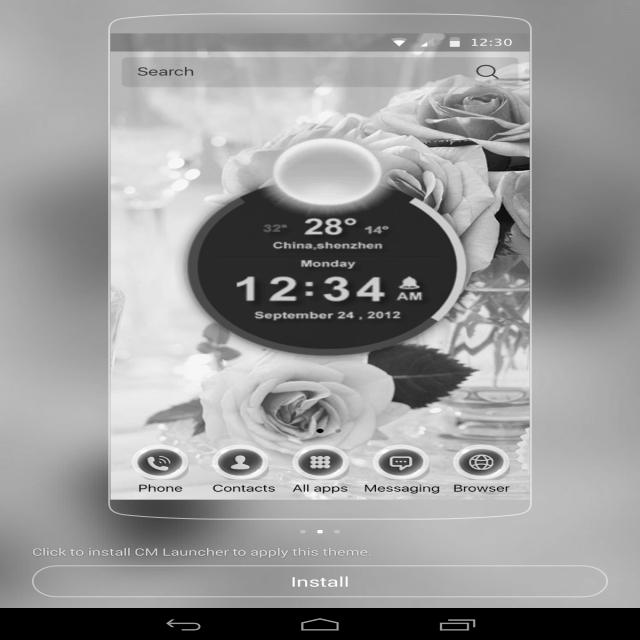Button: (30, 562, 615, 600)
EditText: (119, 54, 524, 88)
ImageView: (264, 135, 388, 204), (373, 444, 428, 478), (215, 446, 268, 480), (134, 445, 190, 475), (293, 447, 347, 476), (398, 273, 426, 291)
TextView: (232, 272, 388, 321), (29, 543, 373, 559), (272, 237, 386, 251), (286, 478, 356, 497), (450, 480, 522, 496), (132, 478, 197, 494), (302, 214, 344, 236)
